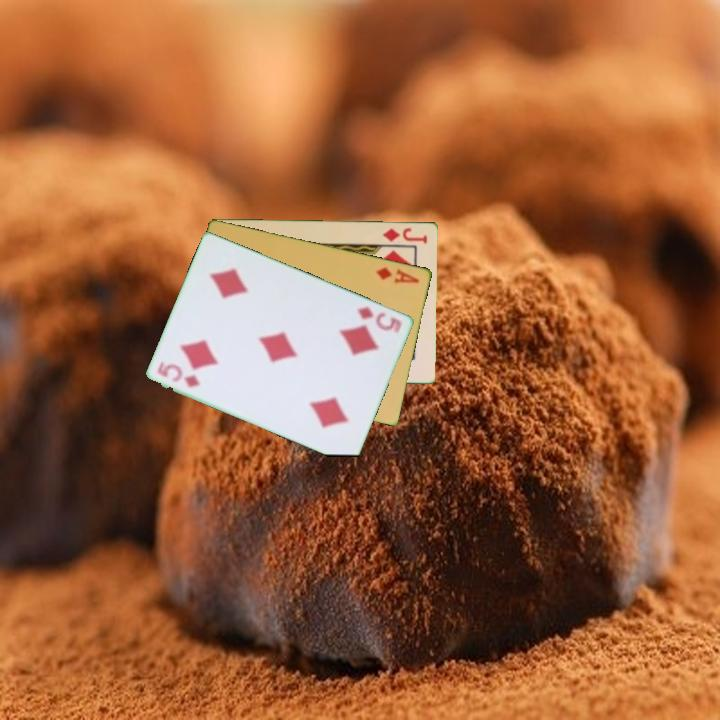5d: (354, 303, 405, 336), (159, 361, 204, 390)
Ad: (373, 263, 423, 286)
Jd: (379, 224, 431, 246)
